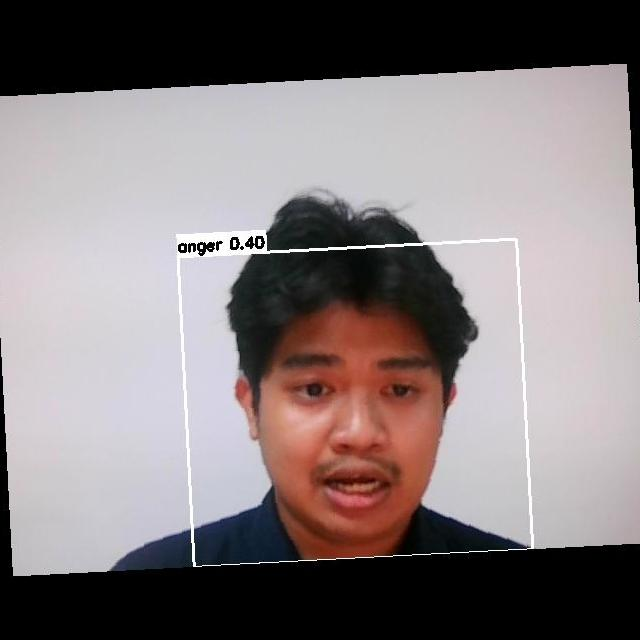Fear: (240, 328, 454, 527)
